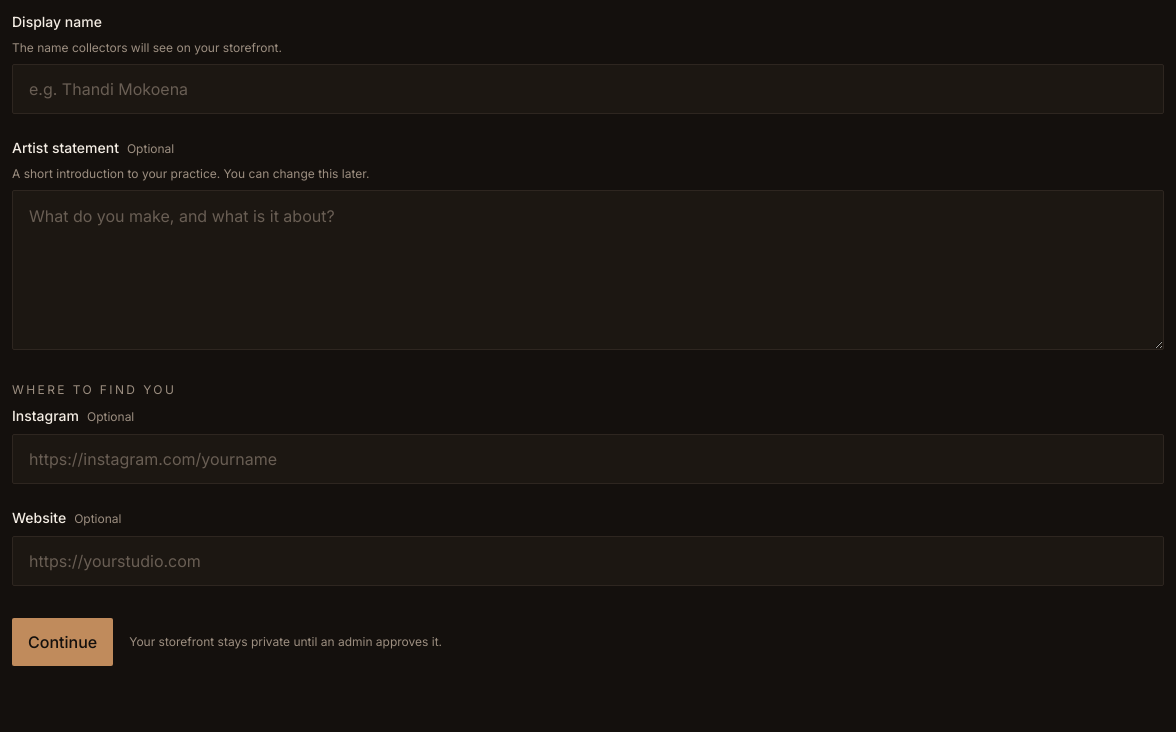
ArtistProfileForm — validation › will not submit without a display name, and says why
The width and height of the screenshot is (1176, 732).
What coordinates should you click on to do the following:
click the button "Continue"
I would click on:
 (63, 642)
Its box is [12,618,113,666].
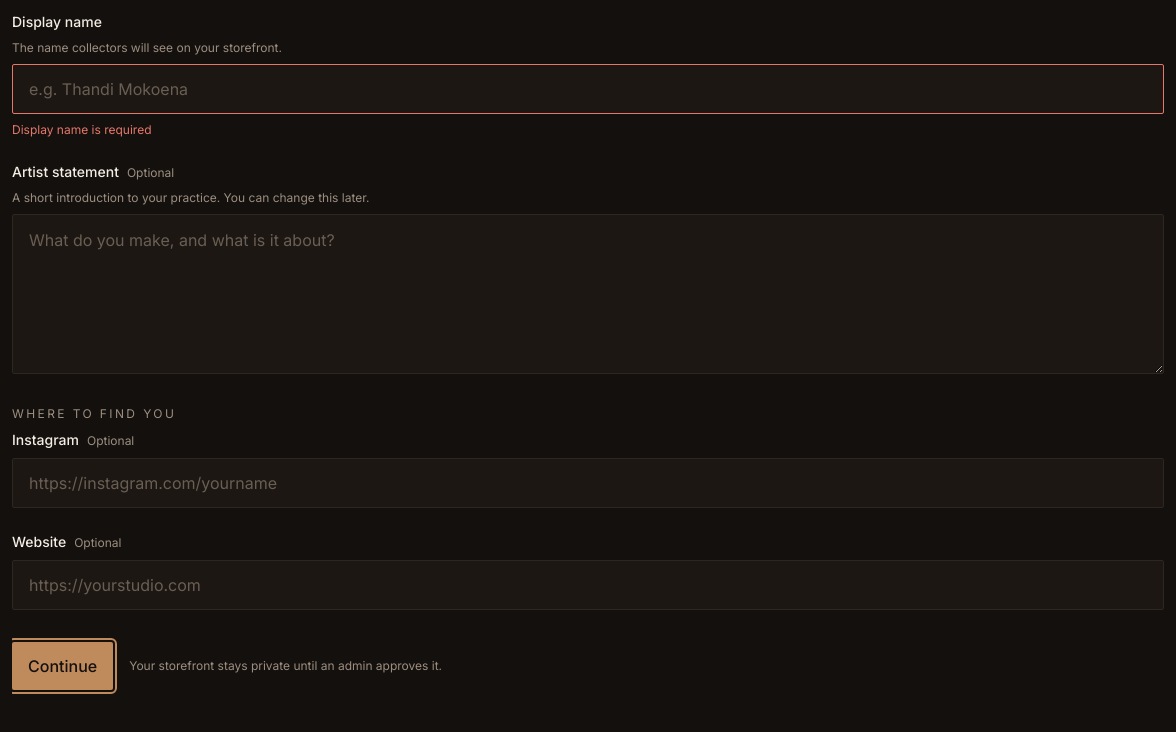
Now the text "Display name is required" is shown, box [12,122,152,137]
